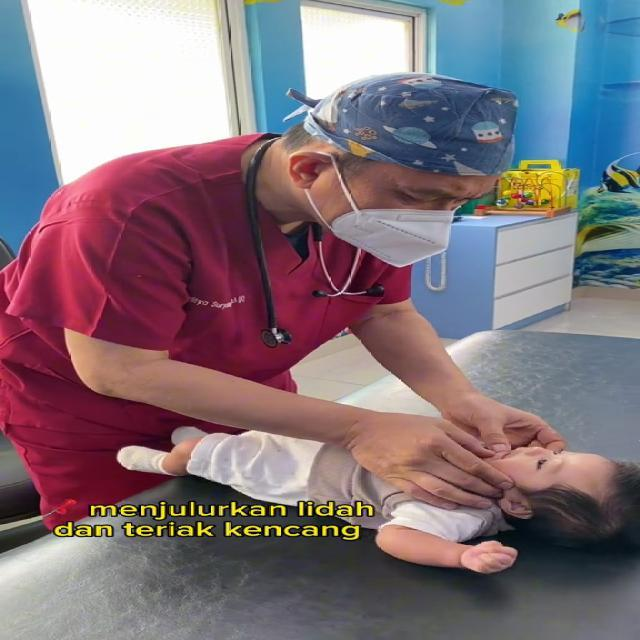baby: (114, 403, 640, 577)
